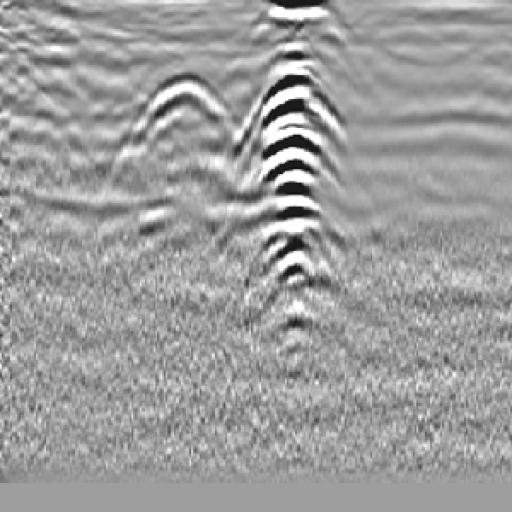metalic: (243, 26, 342, 328)
nonmetalic: (117, 72, 248, 195)
